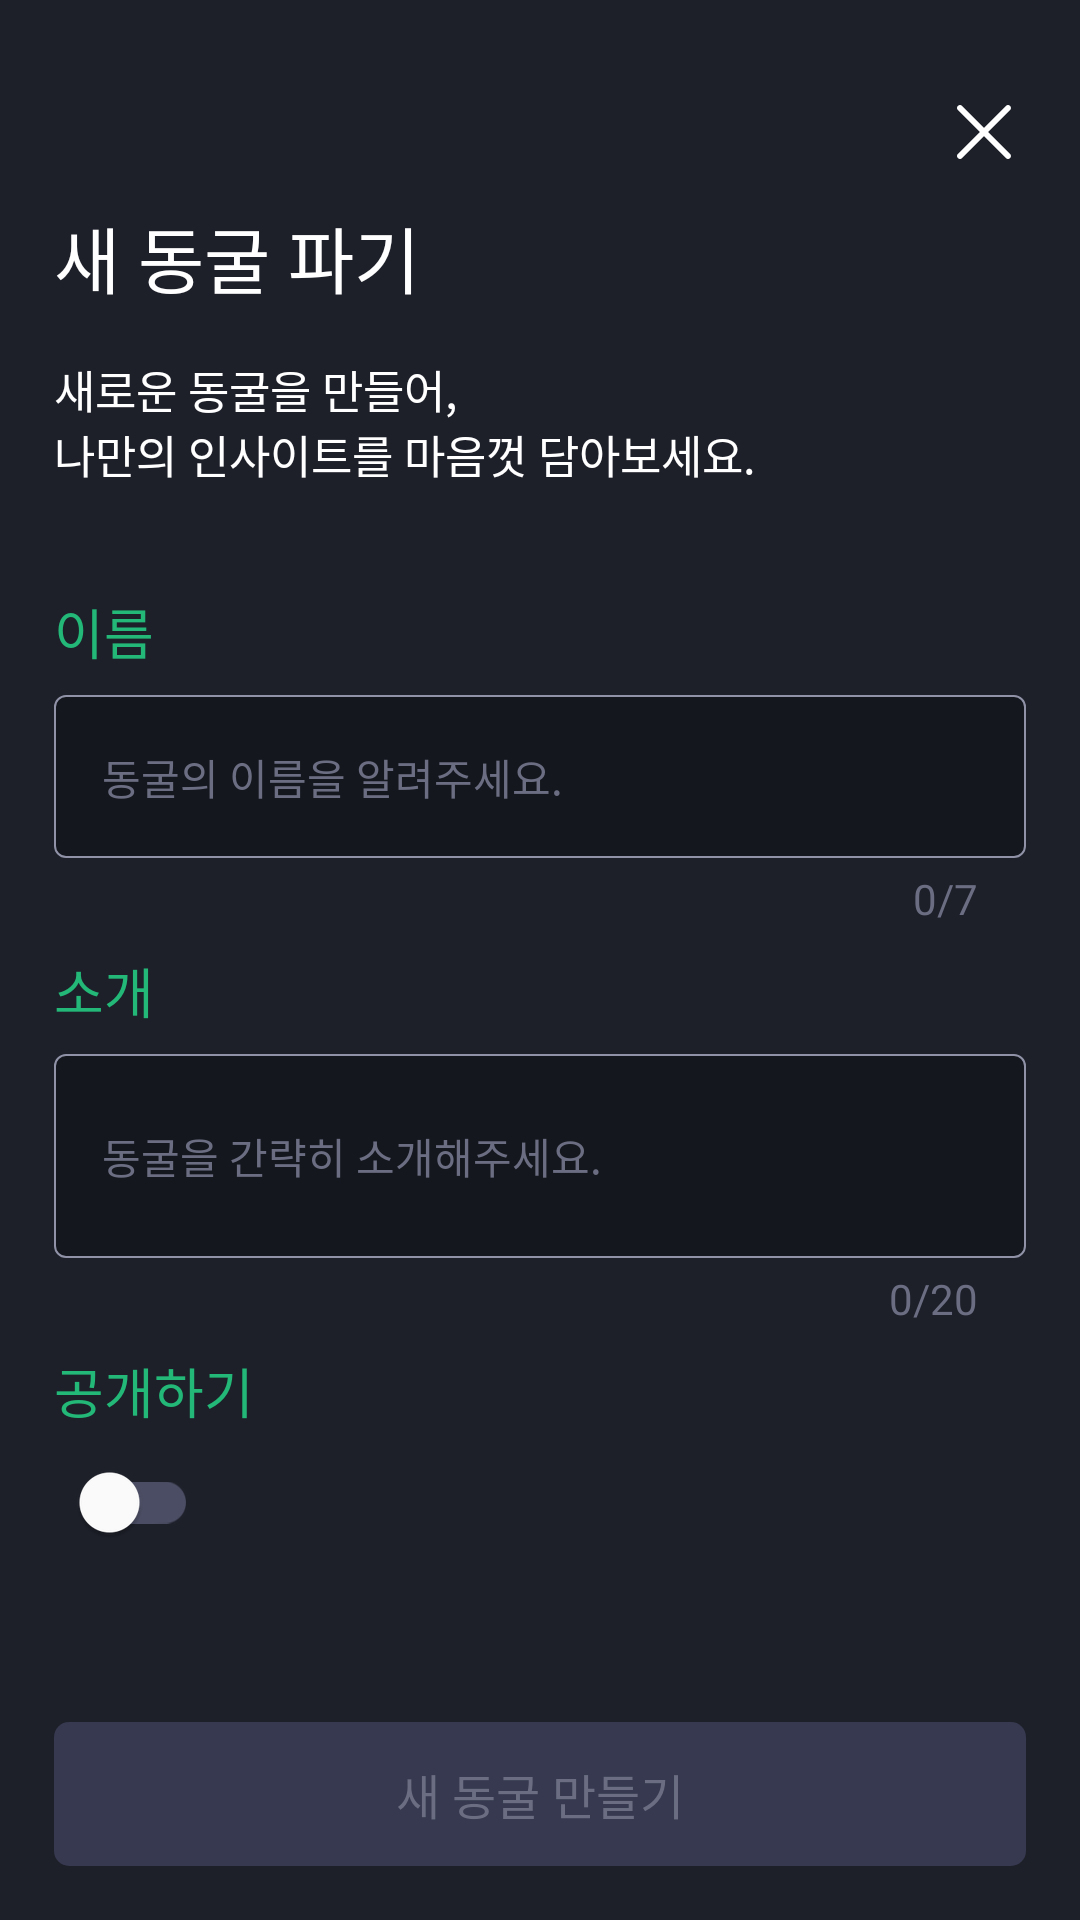

Icons on this 1080px x 1920px Android screen, each with the point to tap as (x,y):
create storage close: (984,132)
